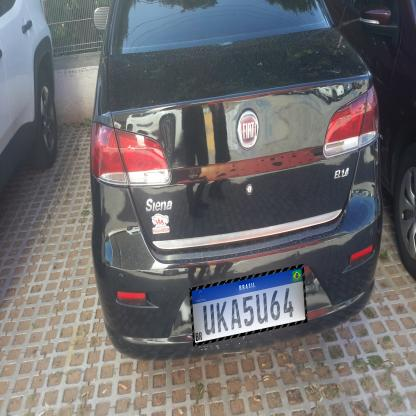PlacaM: (190, 264, 308, 346)
